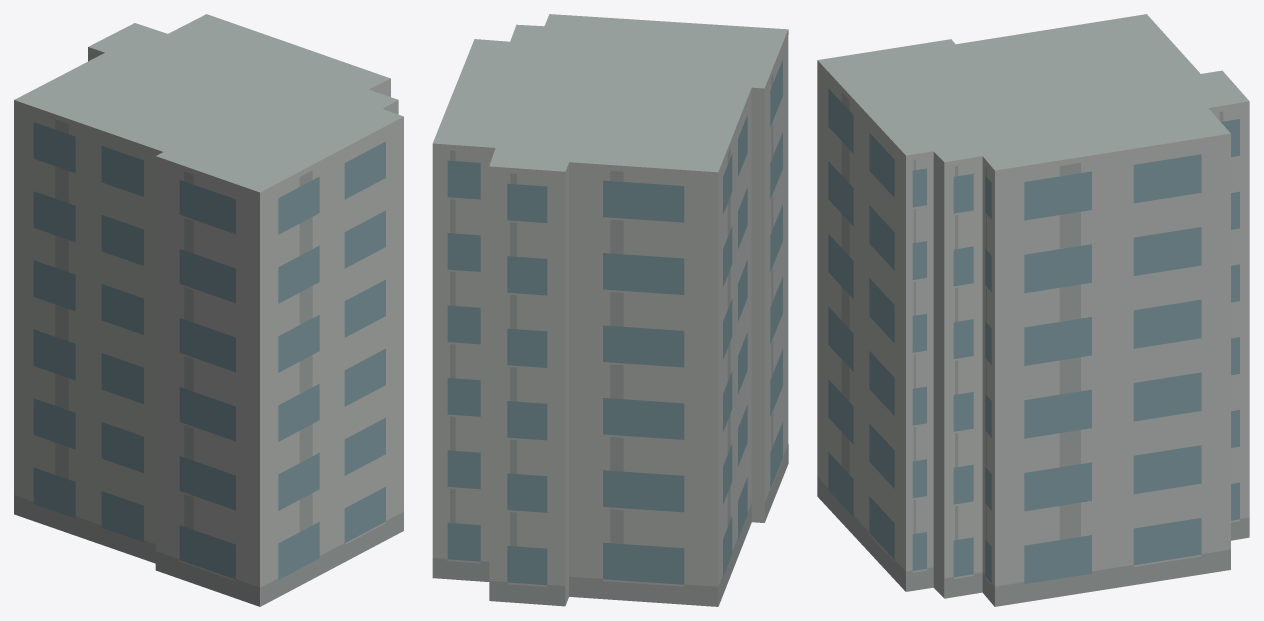
The model's file is survey-upis-32863626.glb.
The picture shows the model from 3 angles, left to right: view 1: azimuth 30°, elevation 25°; view 2: azimuth 150°, elevation 25°; view 3: azimuth 270°, elevation 25°; orthographic projection. The views are drawn at different scales.
Parts seen in each view (by area): view 1: survey-upis-32863626.tmp; view 2: survey-upis-32863626.tmp; view 3: survey-upis-32863626.tmp.
Boxes of the visible parts, bbox=[...] form: survey-upis-32863626.tmp: bbox=[14, 14, 403, 606]; survey-upis-32863626.tmp: bbox=[432, 14, 788, 606]; survey-upis-32863626.tmp: bbox=[817, 14, 1249, 606].
Size of the model in its own units: 14.36 by 18.65 by 16.75.
